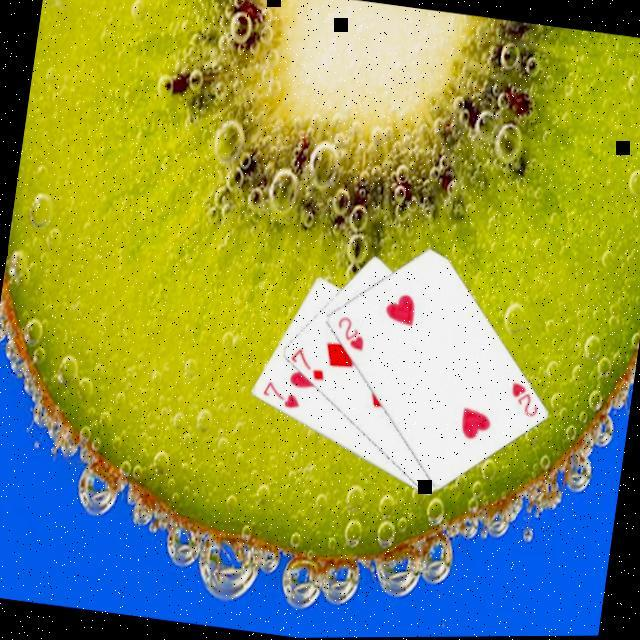2H: (329, 310, 369, 353), (502, 377, 542, 420)
7D: (284, 342, 328, 382)
7H: (256, 376, 304, 412)
